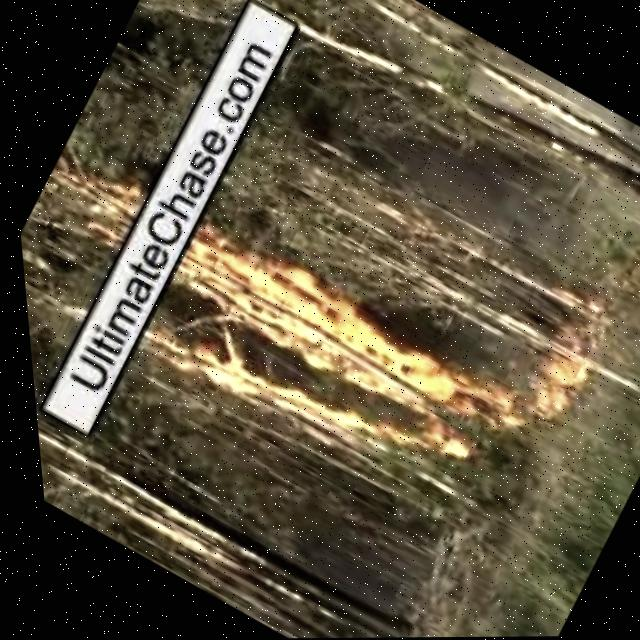Fire: (123, 214, 521, 522), (467, 315, 601, 454), (26, 146, 149, 254), (504, 324, 604, 442)
